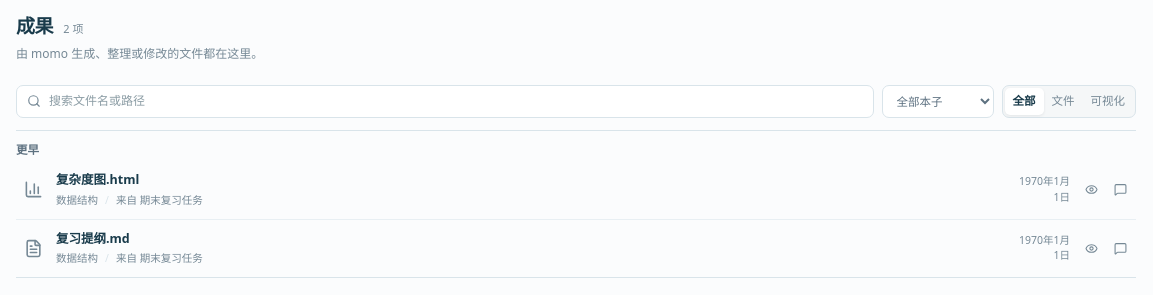
Test: ArtifactsPage › groups populated results by time and filters files from visualizations
The image size is (1153, 295).
Expected: the heading "更早" is shown, top-left (16, 142), bottom-right (39, 156)
Expected: the text "复习提纲.md" is shown, top-left (56, 230), bottom-right (130, 246)
What coordinates should you click on to do the following:
click the button "文件"
I would click on:
 (1063, 101)
Its box is top-left (1044, 88), bottom-right (1082, 114).
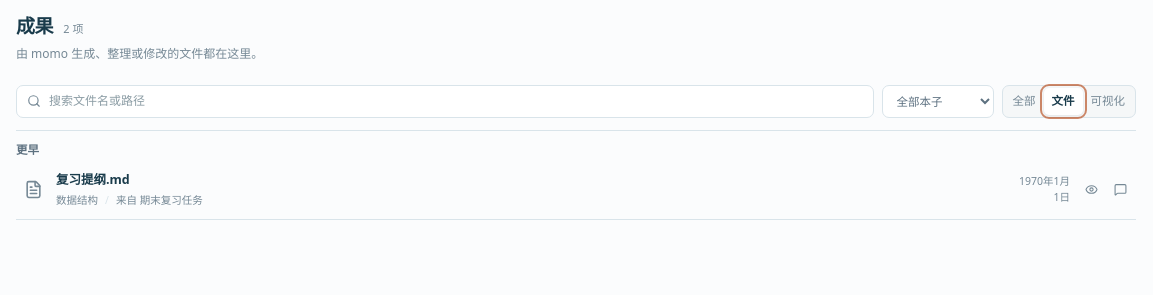
Expected: the text "复习提纲.md" is shown, top-left (56, 171), bottom-right (130, 188)
Now the text "复杂度图.html" is gone
